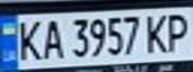3: (66, 16, 90, 60)
5: (106, 14, 127, 56)
7: (121, 12, 145, 55)
9: (87, 15, 109, 57)
A: (39, 16, 66, 61)
K: (12, 17, 45, 62), (142, 11, 172, 55)
P: (160, 10, 193, 53)
